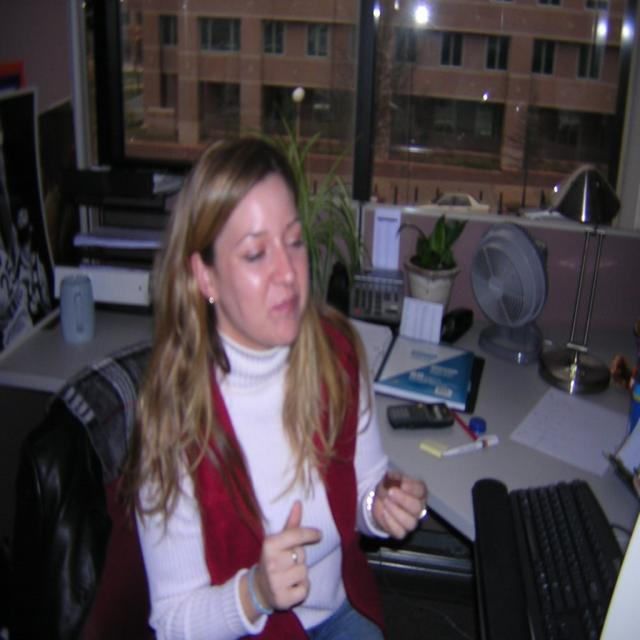chair: (5, 342, 156, 639)
desk: (0, 329, 639, 543)
keyboard: (508, 478, 624, 640)
person: (130, 130, 418, 640)
